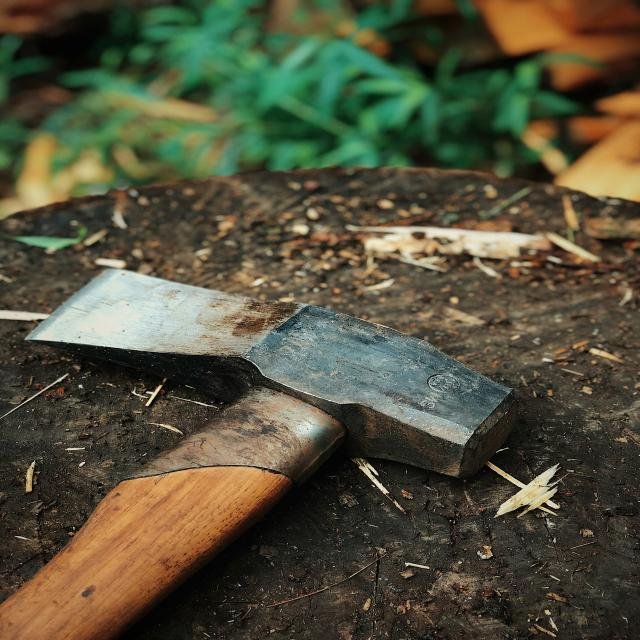Axe: (0, 270, 511, 640)
